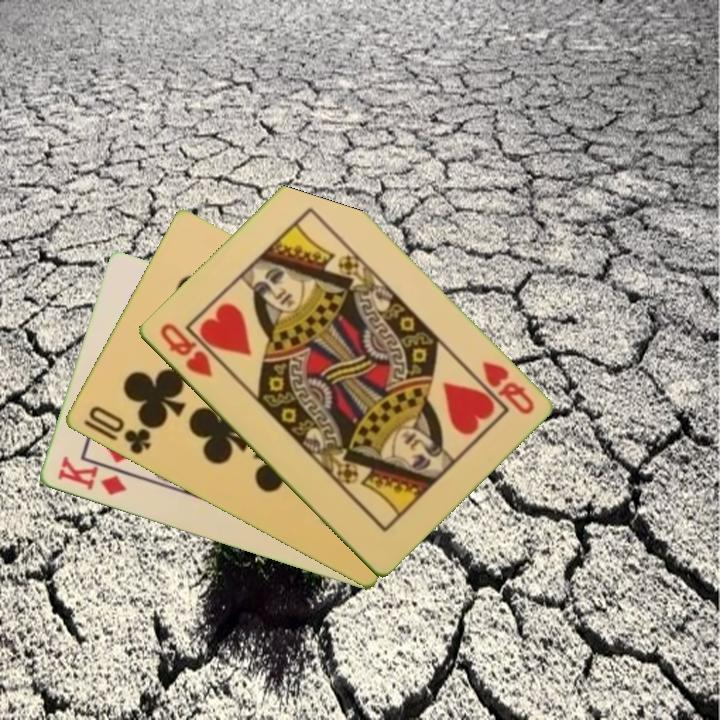10c: (84, 402, 154, 458)
Kd: (53, 453, 129, 499)
Qh: (156, 319, 215, 381), (477, 357, 537, 417)
